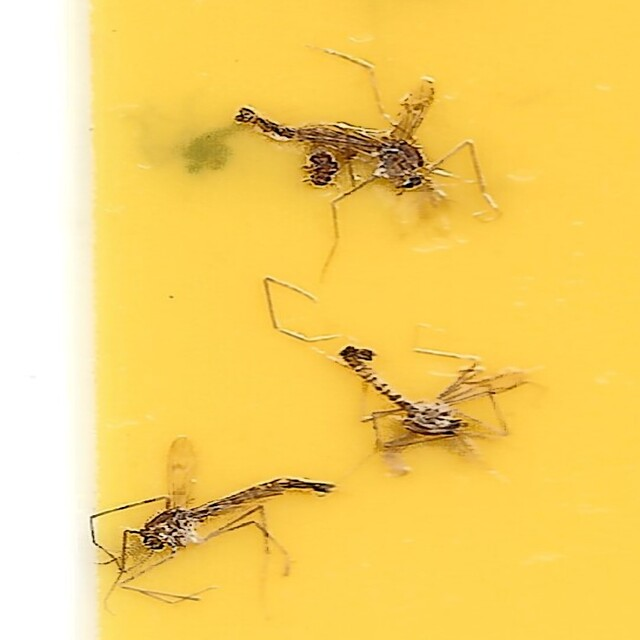Nematocera: (118, 438, 340, 559), (232, 81, 447, 202), (340, 340, 522, 466)
